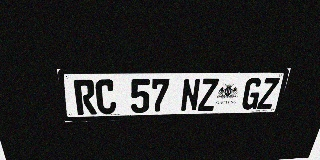5: (131, 79, 150, 113)
7: (150, 79, 170, 113)
C: (95, 79, 116, 114)
G: (240, 78, 263, 110)
N: (180, 78, 201, 112)
R: (73, 79, 97, 115)
Z: (257, 78, 280, 109), (198, 78, 219, 111)
